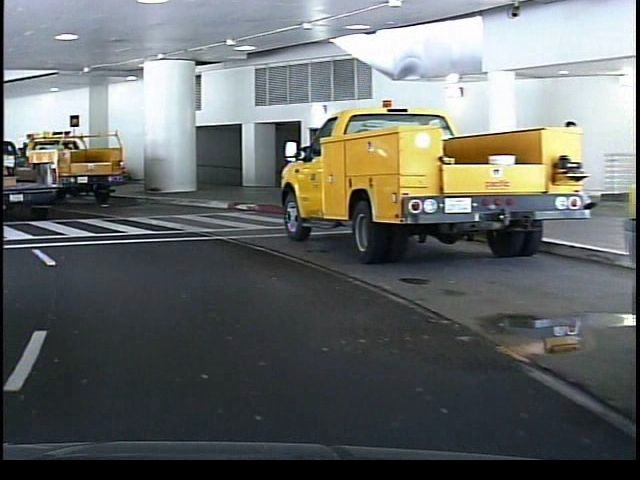person: (554, 111, 588, 218)
